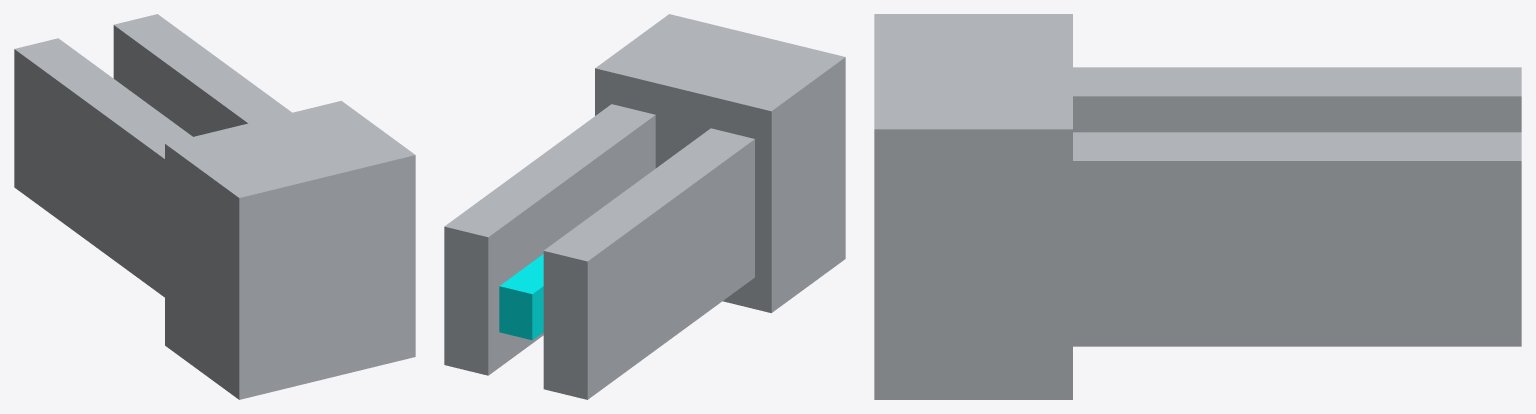
File: Weapons_Railgun_03.glb
3 renders of one model, left to right at view 1: azimuth 30°, elevation 25°; view 2: azimuth 150°, elevation 25°; view 3: azimuth 270°, elevation 25°, orthographic. The views are drawn at different scales.
Visible parts, largest first — view 1: Weapons_Railgun_03_gltf_export_temp; view 2: Weapons_Railgun_03_gltf_export_temp; view 3: Weapons_Railgun_03_gltf_export_temp.
Boxes of the visible parts, x1,y1,x2,y2 form: Weapons_Railgun_03_gltf_export_temp: [14, 14, 415, 399]; Weapons_Railgun_03_gltf_export_temp: [444, 14, 845, 399]; Weapons_Railgun_03_gltf_export_temp: [874, 14, 1521, 399].
Bounding box in the file's own units: 0.3904 × 0.4271 × 0.9261.
